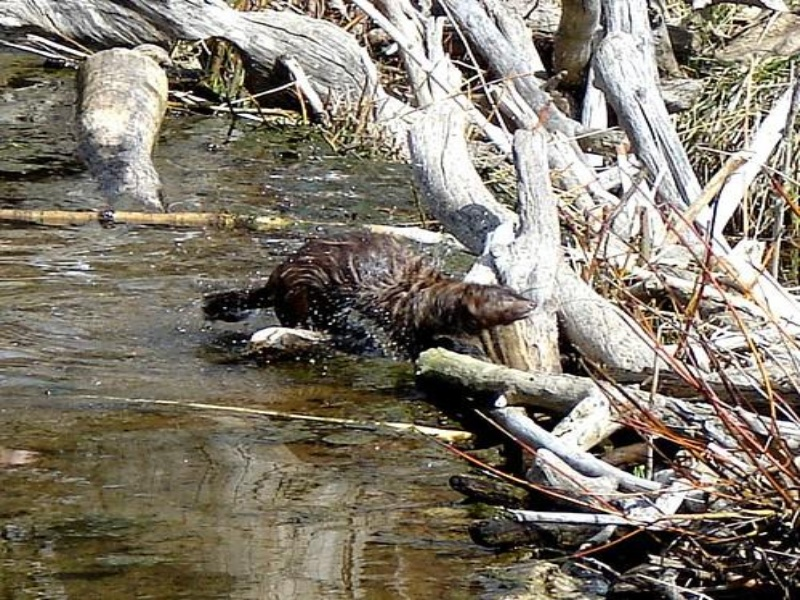minkish: (205, 223, 536, 360)
